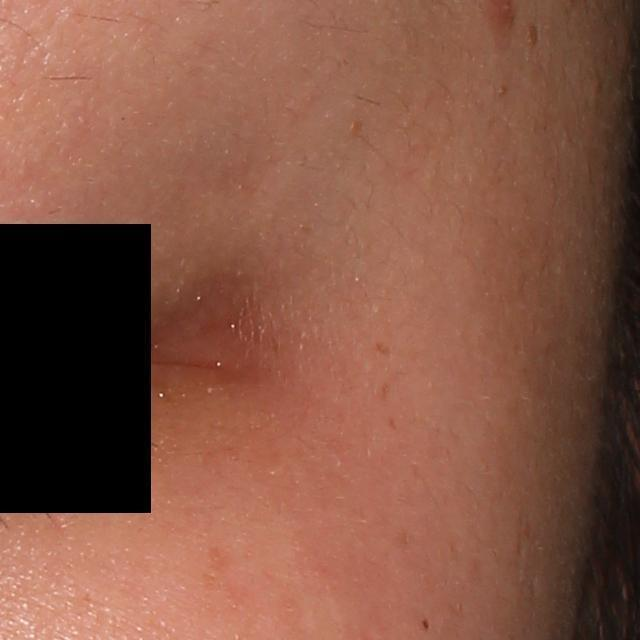melasma: (369, 338, 392, 358)
nevus: (420, 617, 432, 631)
